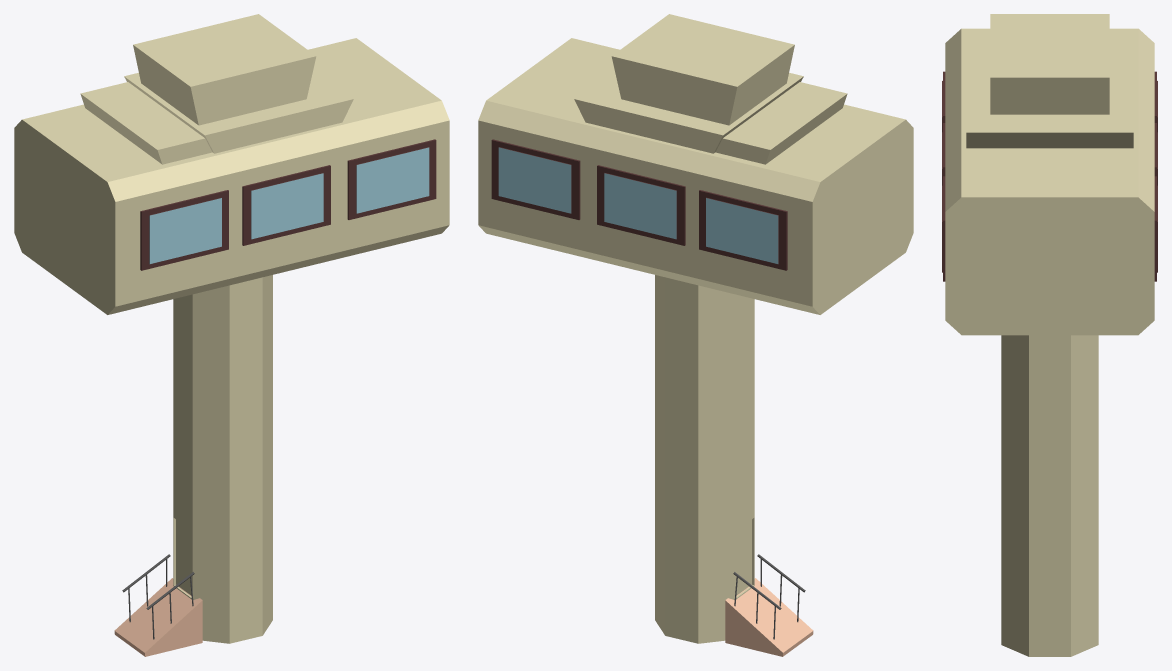
Rendered from MetroStation.fbx.
The picture shows the model from 3 angles, left to right: view 1: azimuth 30°, elevation 25°; view 2: azimuth 150°, elevation 25°; view 3: azimuth 270°, elevation 25°; orthographic projection. The views are drawn at different scales.
Parts seen in each view (by area): view 1: Metro Station.001; view 2: Metro Station.001; view 3: Metro Station.001.
Part boxes in pixels (box(x1,y1,x2,y2)): Metro Station.001: box(14, 14, 449, 656); Metro Station.001: box(478, 14, 913, 656); Metro Station.001: box(942, 14, 1157, 656).
Bounding box in the file's own units: 62.09 × 102 × 33.53.
